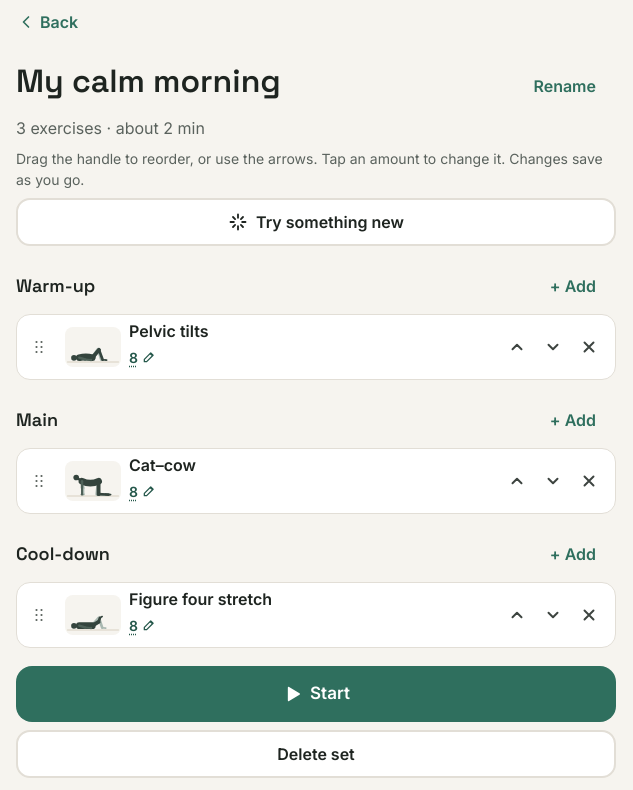
Test: SetView amounts (011 US3) › changes a rep item’s reps and sets
This screenshot has width=633, height=790.
Later steps or results of the test are not shown.
Click the button named "change amount for Cat–cow".
click(142, 491)  # box [121, 475, 164, 507]
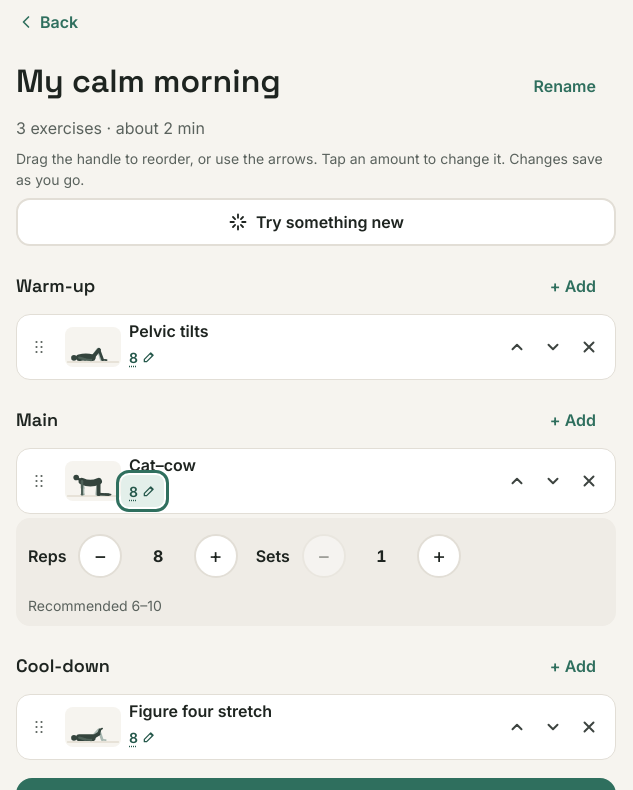
Now the text "Recommended 6–10" is shown, box [28, 597, 162, 614]
